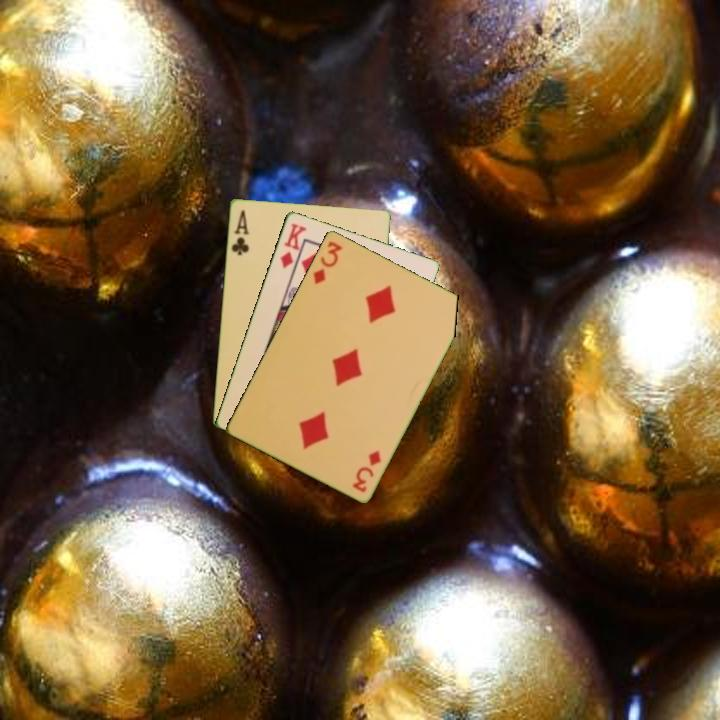3d: (309, 237, 345, 287), (348, 446, 384, 495)
Ac: (227, 206, 251, 258)
Kd: (277, 219, 309, 271)
